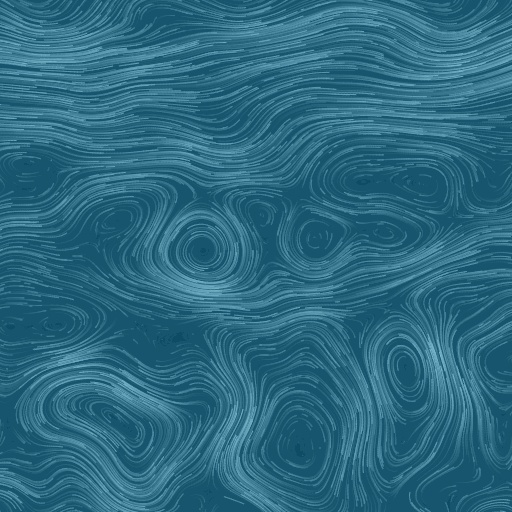eddy: (249, 384, 341, 490), (60, 382, 165, 462), (331, 156, 459, 215), (163, 205, 242, 287), (373, 327, 439, 423), (282, 205, 351, 270), (94, 197, 140, 244)
